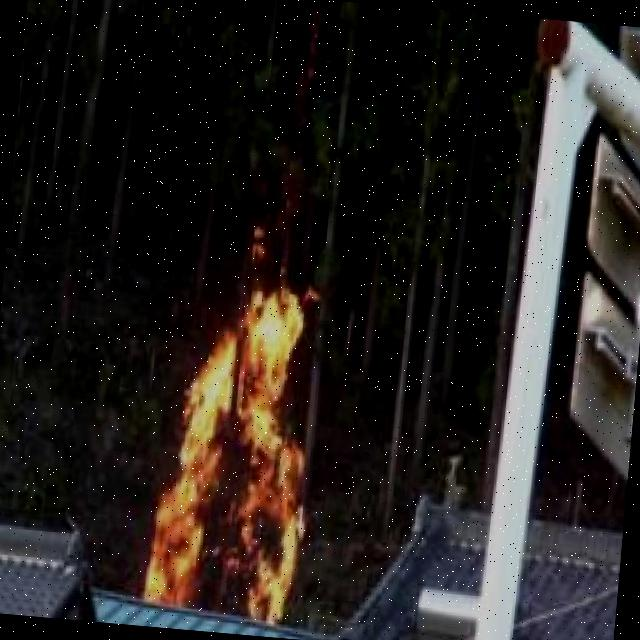fire: (132, 246, 352, 625)
